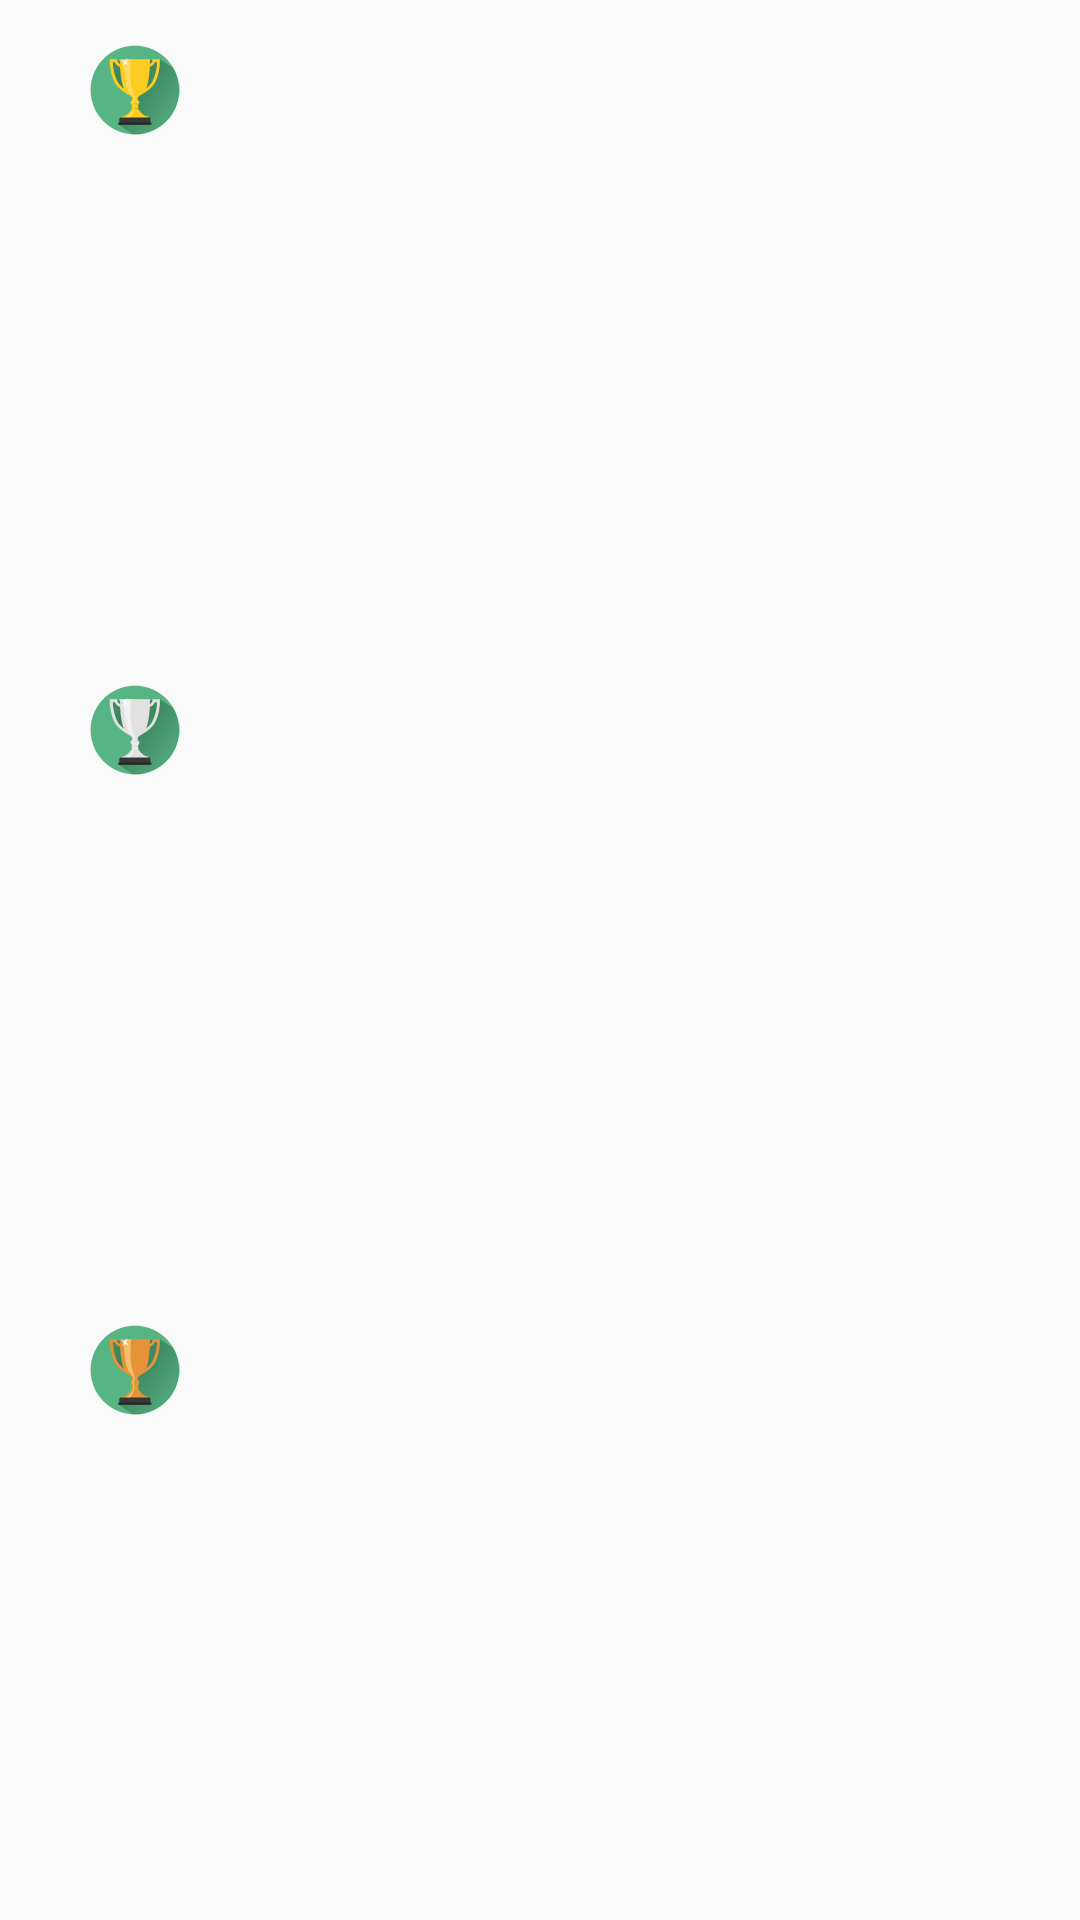

Named icons in this screenshot (1080 × 1920) and their centers, (x=x, y=y):
1er: (x=135, y=90)
2ème: (x=135, y=730)
3ème: (x=135, y=1370)
